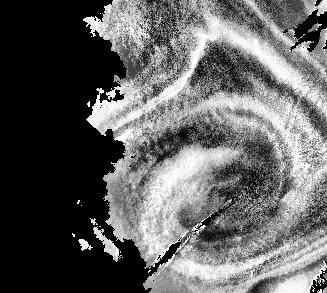AE: (142, 107, 307, 277)
